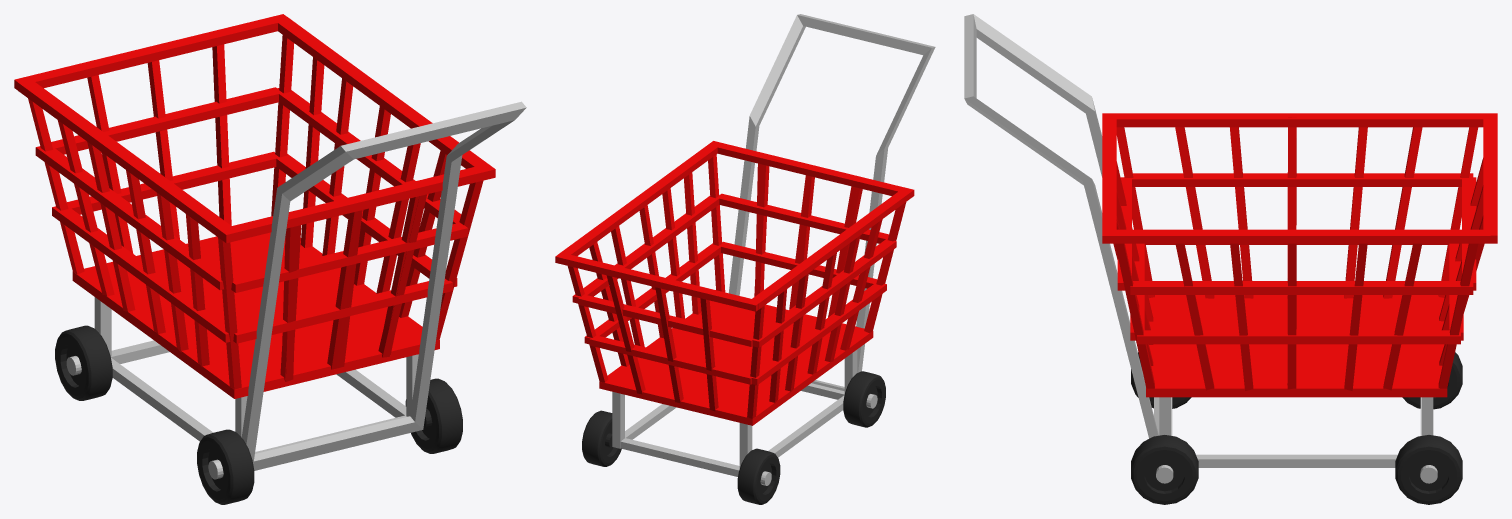
File: 40606bc4-a408-4b9a-85d5-749884f72cde.glb
3 views of the same model, side by side, from view 1: azimuth 30°, elevation 25°; view 2: azimuth 150°, elevation 25°; view 3: azimuth 270°, elevation 25° (orthographic). The views are drawn at different scales.
Visible parts, largest first — view 1: Box046, Box055, Box079, Box060, Box084, Box078, Box044, Cylinder005, Cylinder006, Box071, Box072, Box053 (+29 smaller); view 2: Box046, Box055, Box060, Box084, Box079, Box078, Box044, Box071, Cylinder005, Cylinder006, Box063, Box072 (+29 smaller); view 3: Box046, Box055, Box078, Box079, Box070, Box056, Box071, Cylinder008, Cylinder007, Box060, Box084, Box044 (+19 smaller).
Part boxes in pixels (box(x1,y1,x2,y2)): Box046: box(72, 232, 439, 398); Box055: box(241, 101, 526, 470); Box079: box(18, 79, 239, 243); Box060: box(111, 340, 406, 453); Box084: box(14, 14, 287, 90); Box078: box(274, 17, 495, 180); Box044: box(219, 163, 494, 239); Cylinder005: box(55, 325, 112, 400); Cylinder006: box(197, 429, 254, 504); Box071: box(35, 146, 223, 290); Box072: box(52, 206, 237, 342); Box053: box(231, 222, 468, 292); Box046: box(599, 300, 873, 425); Box055: box(728, 14, 935, 391); Box060: box(620, 383, 844, 476); Box084: box(555, 252, 760, 311); Box079: box(749, 190, 914, 309); Box078: box(558, 141, 717, 256); Box044: box(708, 141, 913, 195); Box071: box(752, 239, 896, 347); Cylinder005: box(737, 448, 780, 504); Cylinder006: box(843, 371, 885, 427); Box063: box(578, 295, 753, 346); Box072: box(751, 283, 886, 385); Box046: box(1146, 295, 1447, 397); Box055: box(964, 14, 1159, 438); Box078: box(1102, 229, 1490, 243); Box079: box(1116, 113, 1483, 127); Box070: box(1137, 330, 1460, 344); Box056: box(1130, 281, 1473, 294); Box071: box(1132, 173, 1473, 186); Cylinder008: box(1131, 435, 1198, 504); Cylinder007: box(1395, 435, 1462, 504); Box060: box(1171, 397, 1421, 467); Box084: box(1483, 113, 1497, 243); Box044: box(1102, 113, 1116, 235).
Size of the model in its own units: 253747 by 384220 by 467060.
